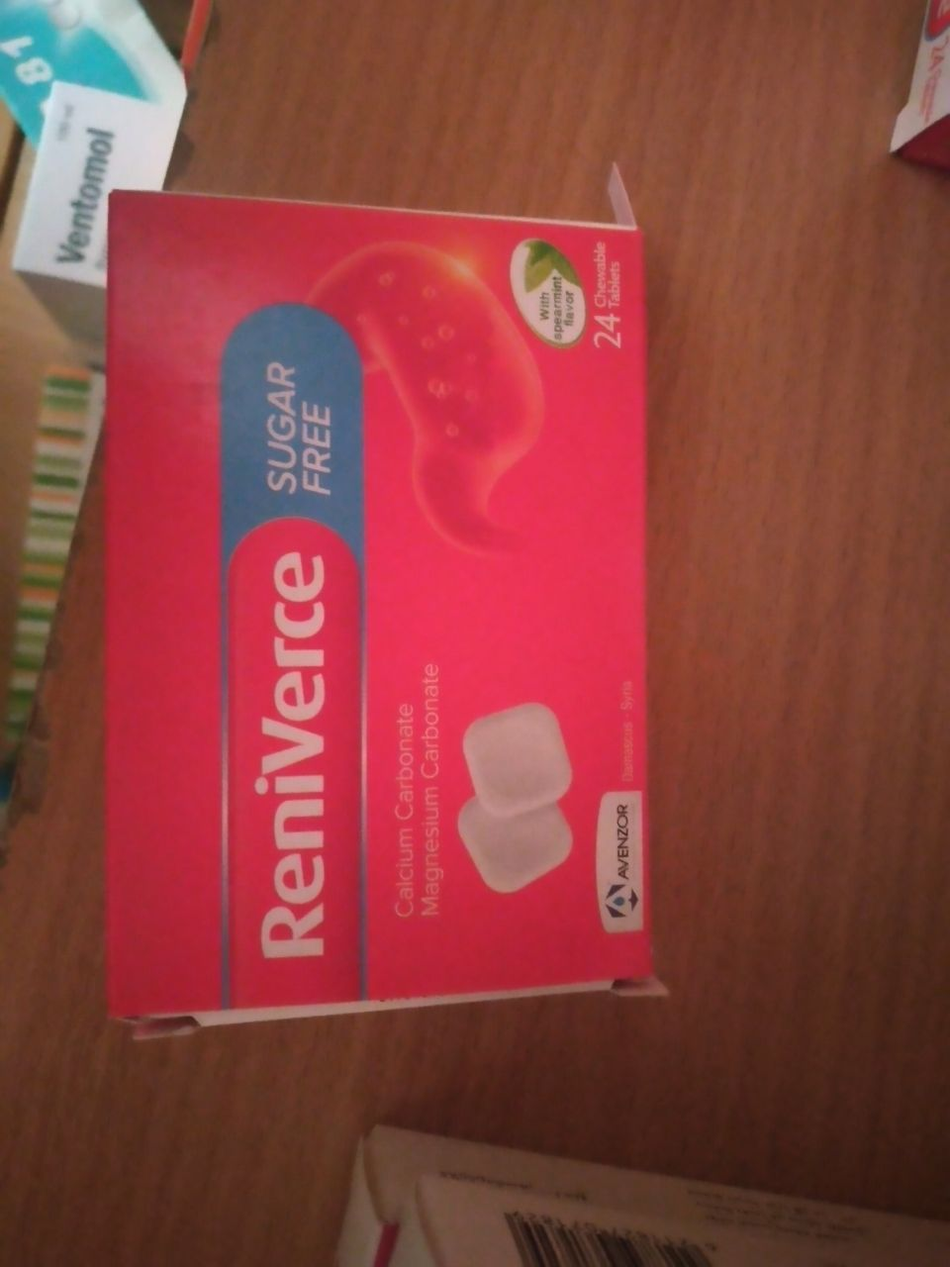Medicine: (77, 161, 680, 1074)
